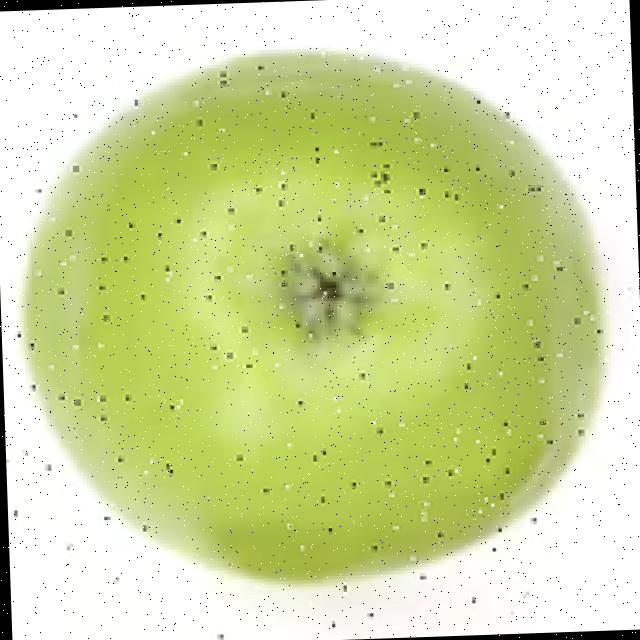apple: (13, 41, 631, 633)
